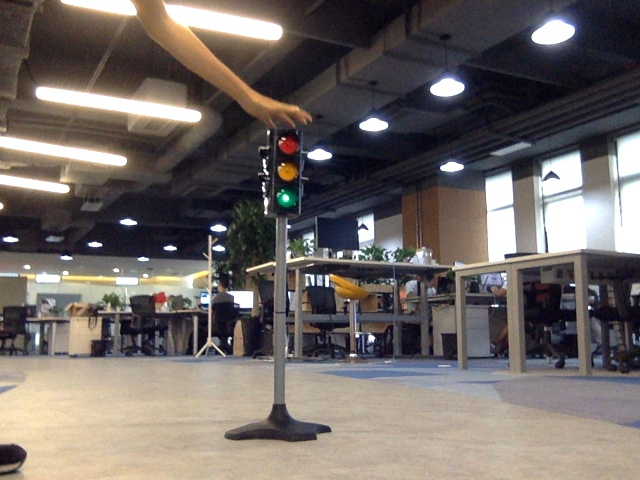green: (270, 136, 298, 211)
